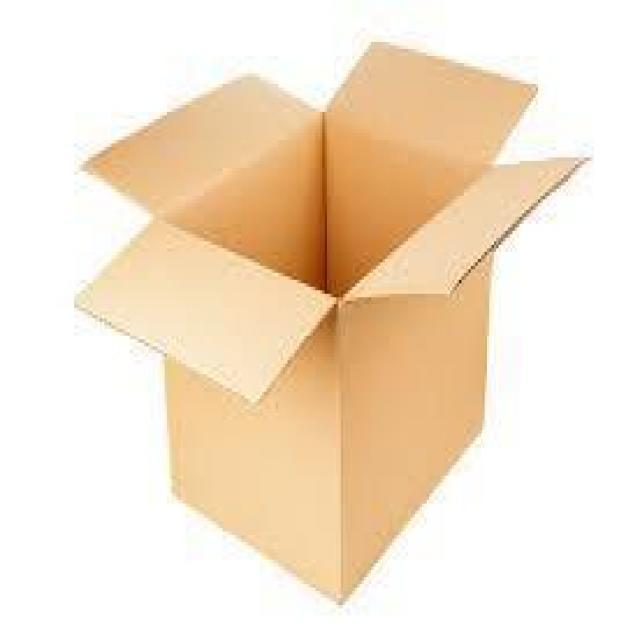box: (74, 38, 594, 605)
